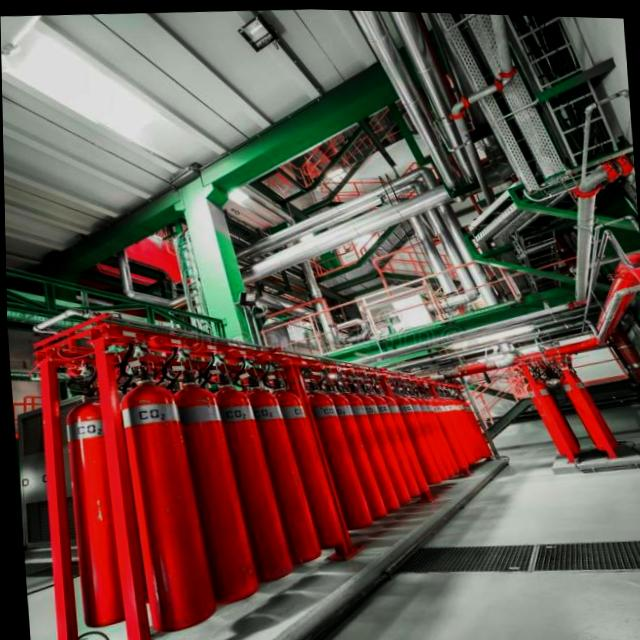FireExtinguisher: (118, 322, 223, 637), (145, 345, 267, 612), (179, 348, 291, 592), (46, 323, 132, 635), (234, 367, 323, 567), (262, 376, 352, 551), (289, 375, 373, 534), (309, 375, 390, 526), (547, 356, 624, 455), (505, 360, 578, 461)
